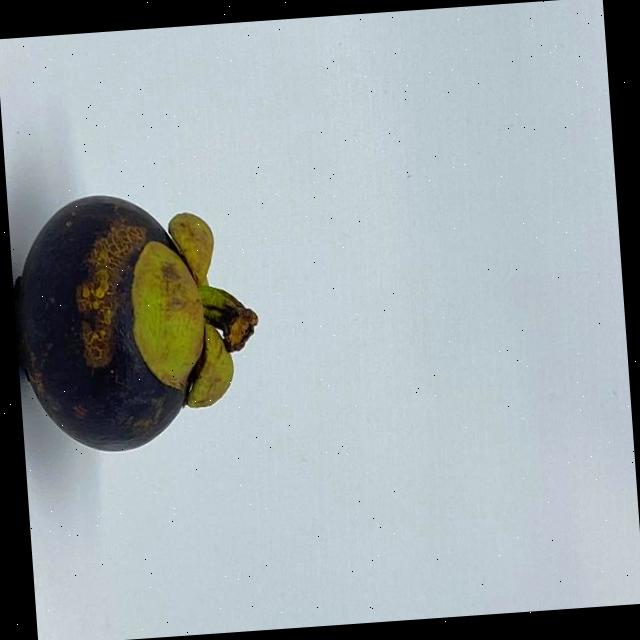mangosteen: (6, 168, 258, 460)
